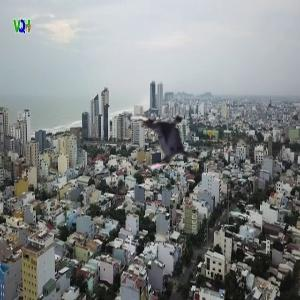drone: (129, 102, 204, 177)
